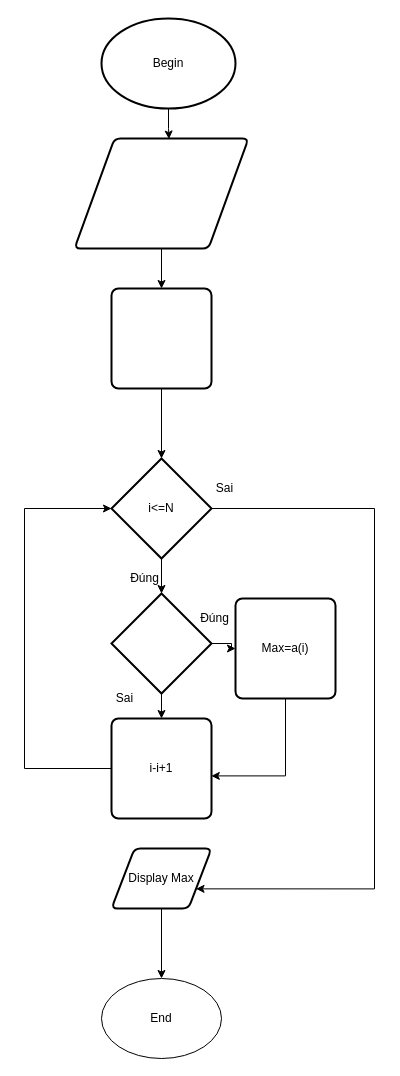
The diagram is 400 pixels wide and 1076 high, and some of its shapes have lost their labels. Here are the shapes that lost their labels. From the top down, the centre of each, then its label:
(161,193): Nhập n Nhập a(1)...a(n)
(161,338): i=1 Max=a(i) i=i+1
(161,643): If a(i)>Max
